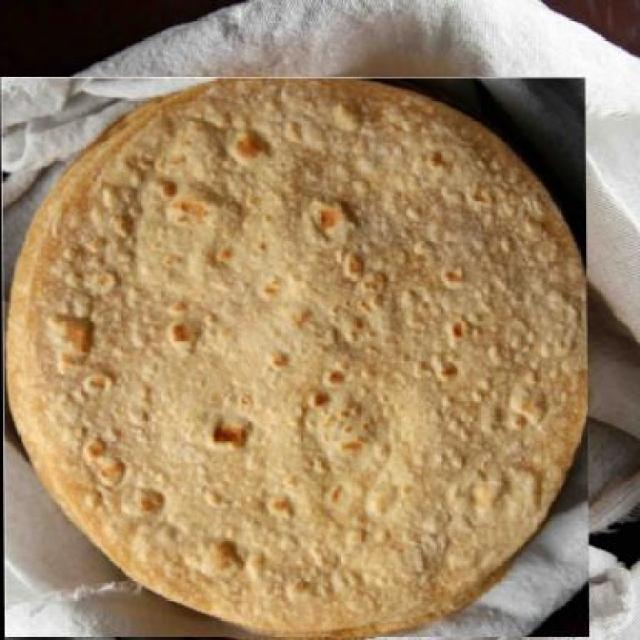chapati: (1, 77, 590, 638)
